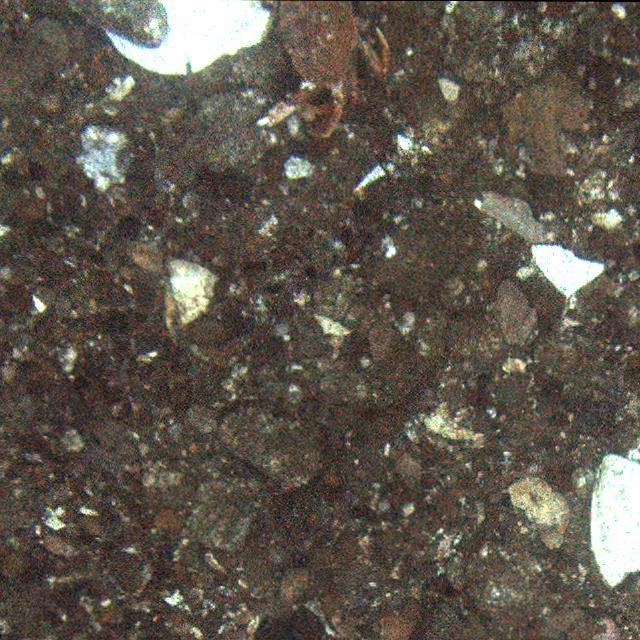crab: (262, 0, 388, 131)
